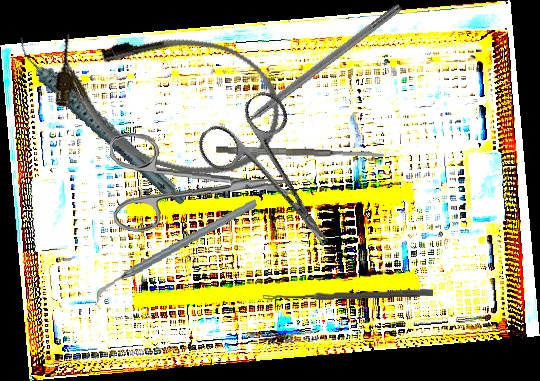Cannula: (37, 5, 296, 193)
Chopper: (85, 197, 266, 306)
Handpiece: (13, 9, 187, 234)
Hook Surgical: (224, 0, 404, 140)
Iris Scissors: (190, 85, 363, 274), (105, 132, 298, 240)
Spatula Surgical: (215, 145, 385, 160)
Surgical Spoon: (262, 288, 434, 302)
